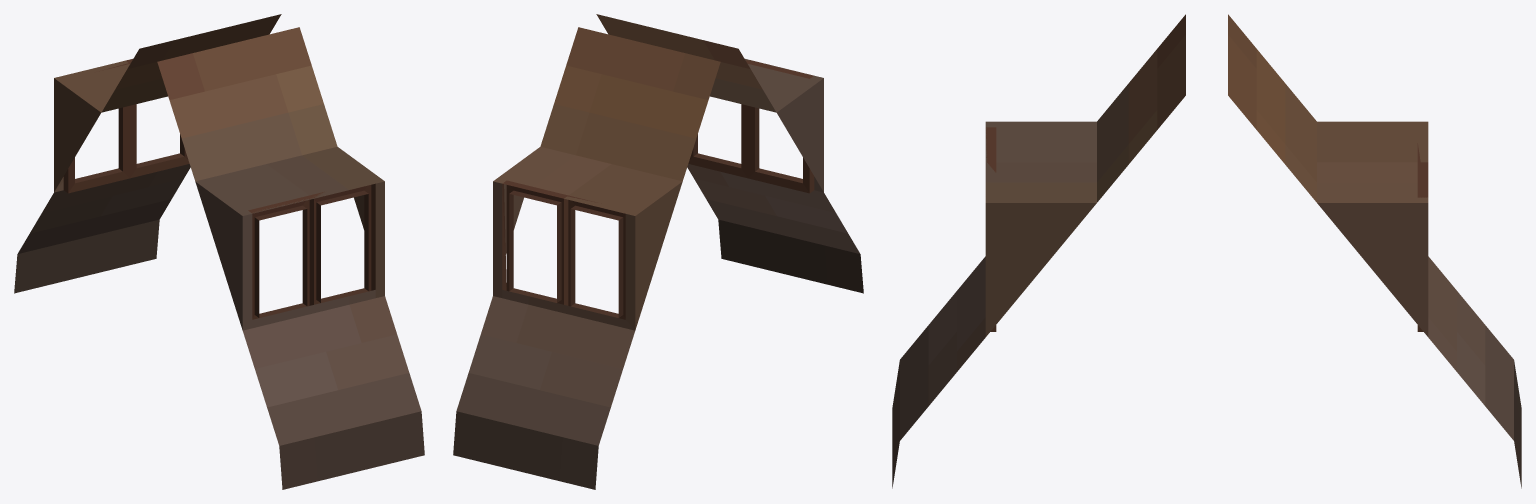
File: Ceiling_HomeA-RoofPanelB-2m.fbx
The picture shows the model from 3 angles, left to right: view 1: azimuth 30°, elevation 25°; view 2: azimuth 150°, elevation 25°; view 3: azimuth 270°, elevation 25°; orthographic projection. The views are drawn at different scales.
Visible parts, largest first — view 1: Ceiling_HomeA-RoofPanelB-2m; view 2: Ceiling_HomeA-RoofPanelB-2m; view 3: Ceiling_HomeA-RoofPanelB-2m.
Boxes of the visible parts, left/top/right/bottom form: Ceiling_HomeA-RoofPanelB-2m: left=14, top=14, right=424, bottom=489; Ceiling_HomeA-RoofPanelB-2m: left=453, top=14, right=863, bottom=489; Ceiling_HomeA-RoofPanelB-2m: left=892, top=14, right=1521, bottom=488.
Size of the model in its own units: 184 by 415 by 600.
